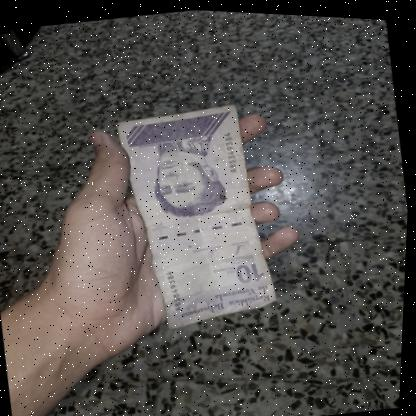ten-front-vef: (108, 95, 288, 335)
